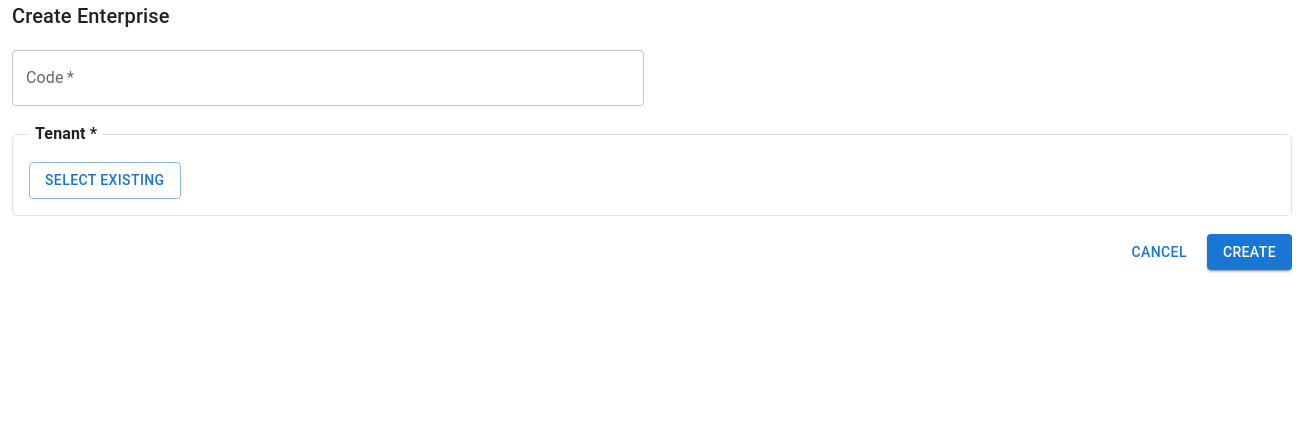
Scenario: WorkbenchRecordForm › warns when related records do not expose the configured reference property
Click the button "Select existing": {"x": 105, "y": 180} [29,162,180,198]
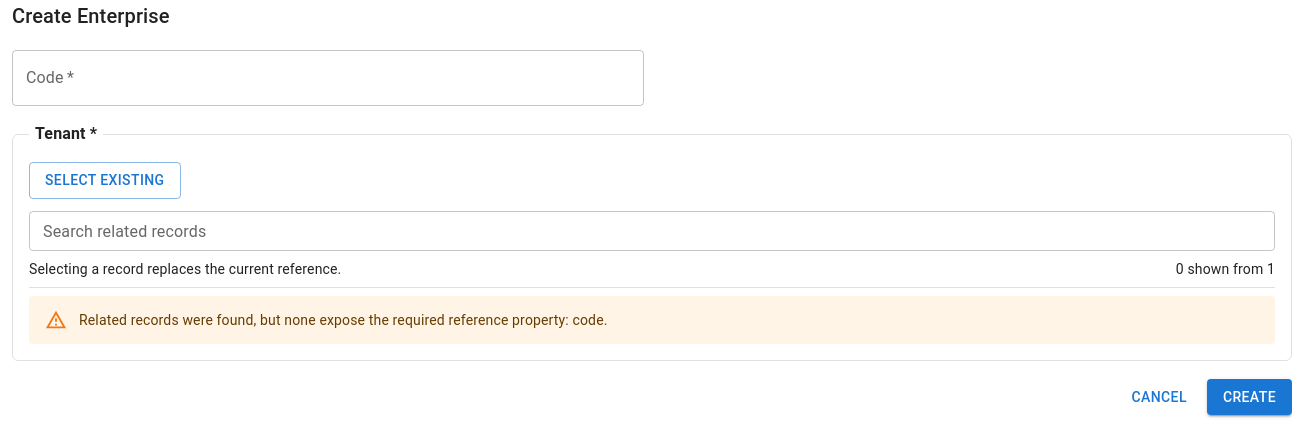
Expected: the text "Related records were found, but none expose the required reference property: code." is shown, [79,312,608,328]
